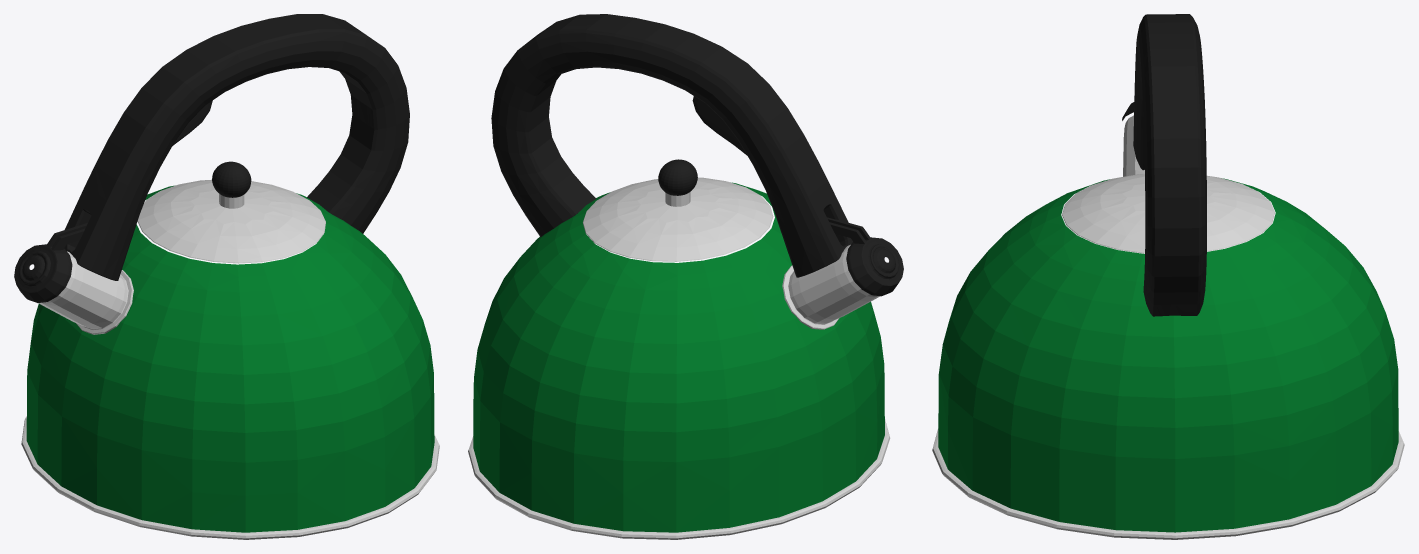
The model's file is sh-bsby-boiler.glb.
3 renders of one model, left to right at view 1: azimuth 30°, elevation 25°; view 2: azimuth 150°, elevation 25°; view 3: azimuth 270°, elevation 25°, orthographic. The views are drawn at different scales.
Parts seen in each view (by area): view 1: Kettle_Plane.025; view 2: Kettle_Plane.025; view 3: Kettle_Plane.025.
Boxes of the visible parts, box(x1,y1,x2,y2) form: Kettle_Plane.025: box(14, 14, 439, 539); Kettle_Plane.025: box(468, 14, 903, 539); Kettle_Plane.025: box(932, 14, 1404, 539).
Size of the model in its own units: 1 by 0.9982 by 1.
